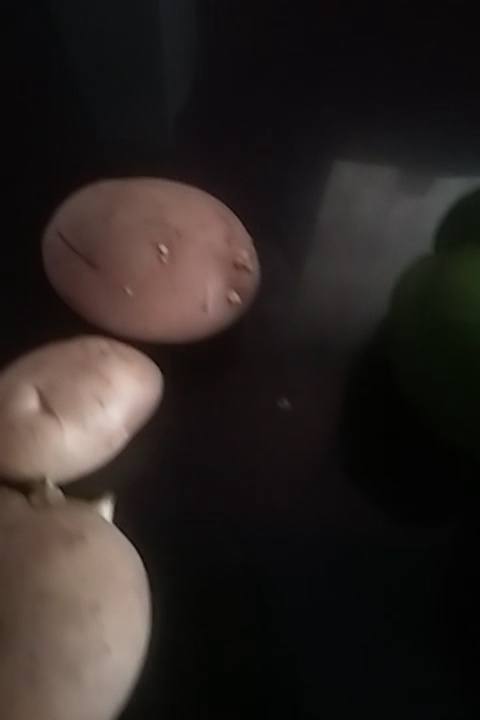potato: (1, 482, 162, 713), (45, 182, 266, 342), (1, 332, 168, 459)
